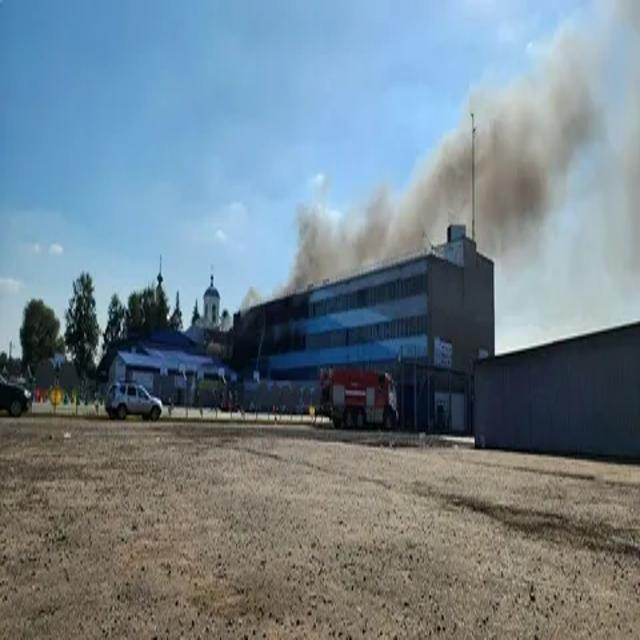Smoke: (294, 34, 592, 290)
